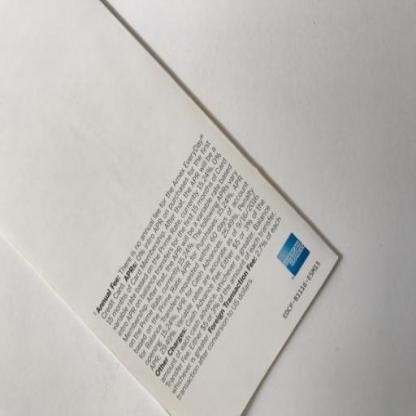Paper: (0, 1, 341, 414)
